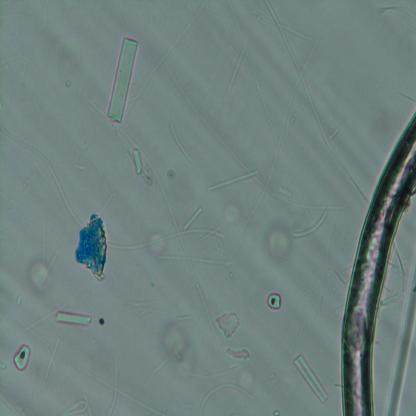Background material: (158, 327, 195, 375), (266, 220, 295, 264), (24, 260, 59, 294), (212, 194, 246, 226), (214, 307, 243, 338), (8, 340, 33, 372), (264, 287, 284, 312), (224, 345, 250, 362), (142, 164, 158, 187), (166, 164, 178, 182), (64, 75, 73, 87), (273, 409, 281, 416)
Fragment: (74, 215, 107, 276)
Glass filter fibre: (264, 0, 366, 200), (0, 124, 85, 230), (386, 258, 416, 416), (104, 226, 225, 252), (108, 38, 138, 124), (252, 8, 310, 44), (198, 382, 253, 414), (294, 353, 328, 404), (292, 206, 329, 240), (156, 251, 230, 268), (207, 170, 258, 194), (169, 122, 193, 164), (25, 304, 62, 330), (229, 49, 246, 95), (44, 335, 61, 377), (106, 355, 117, 415), (54, 309, 92, 326), (61, 398, 89, 416), (182, 208, 203, 231), (131, 148, 143, 175), (176, 309, 196, 323), (278, 184, 294, 200), (327, 127, 341, 142), (16, 289, 22, 308)
